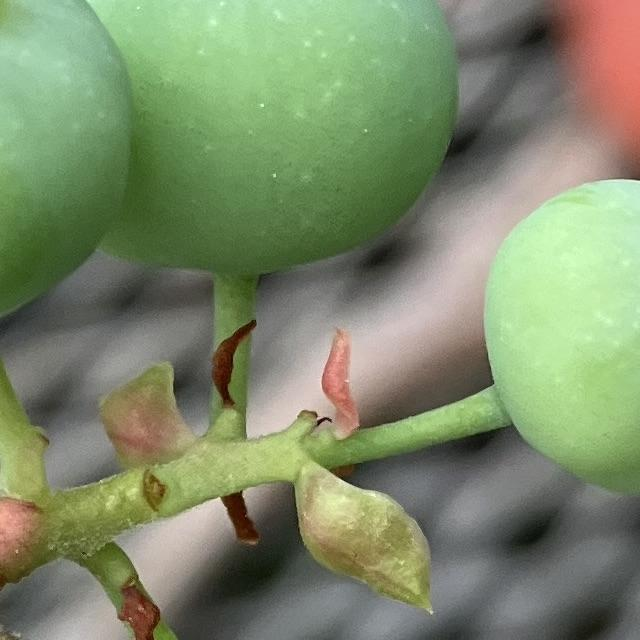Blueberries: (50, 0, 459, 283), (479, 142, 640, 513), (0, 0, 132, 336)
